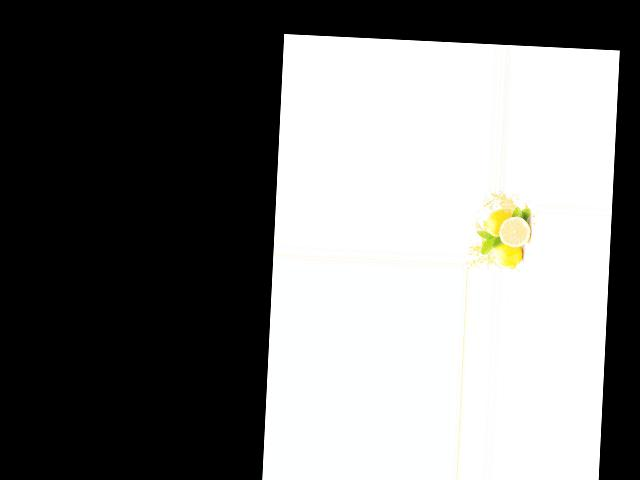lemon: (490, 236, 524, 267)
